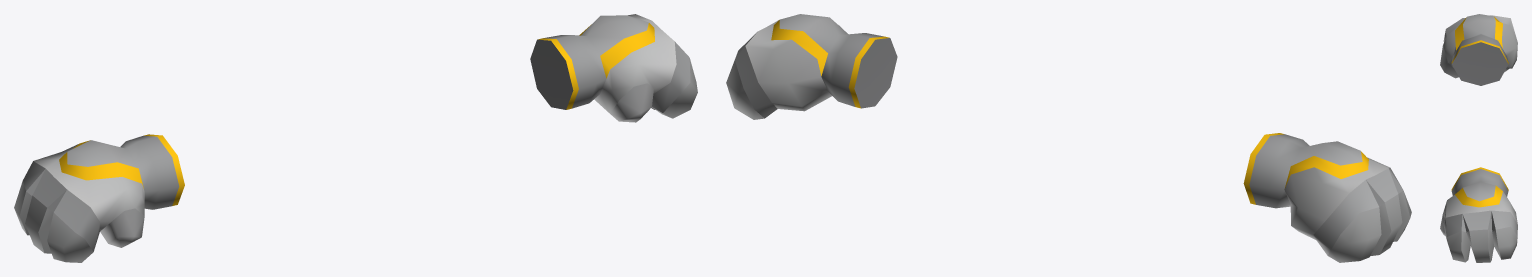
File: Glove_16.fbx
3 renders of one model, left to right at view 1: azimuth 30°, elevation 25°; view 2: azimuth 150°, elevation 25°; view 3: azimuth 270°, elevation 25°, orthographic. The views are drawn at different scales.
Visible parts, largest first — view 1: Glove_16; view 2: Glove_16; view 3: Glove_16.
Boxes of the visible parts, left/top/right/bottom form: Glove_16: left=14, top=14, right=697, bottom=262; Glove_16: left=726, top=14, right=1411, bottom=262; Glove_16: left=1440, top=14, right=1517, bottom=262.
Bounding box in the file's own units: 136 × 19.42 × 21.27.
